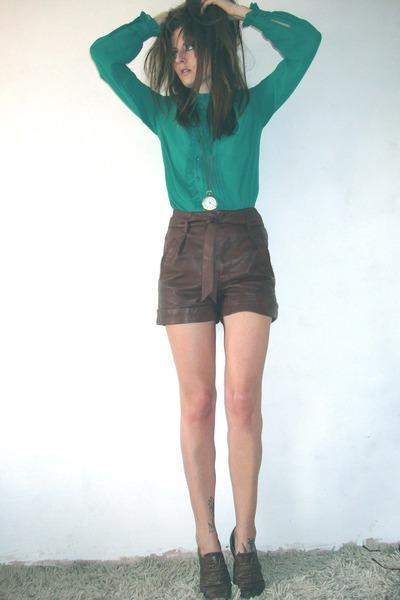long sleeve shirt: (87, 5, 322, 212)
skirt: (148, 204, 281, 326)
